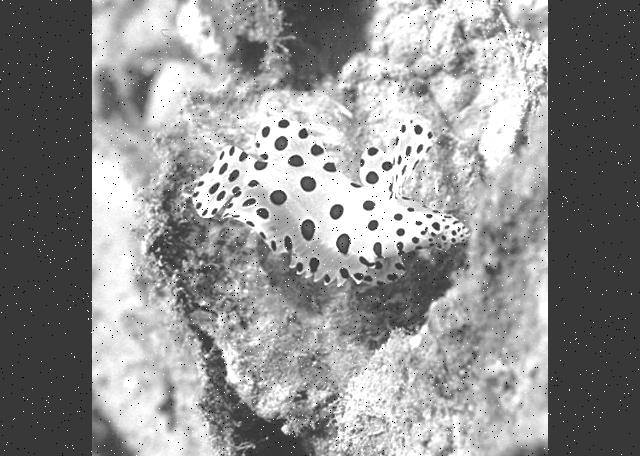Sirip Anal: (251, 106, 339, 164), (425, 214, 487, 266)
Sirip Dada: (349, 144, 396, 198)
Sirip Ekor: (183, 128, 254, 223)
Sirip Perut: (394, 102, 446, 178)
Sirip Punggung: (220, 193, 372, 294)
